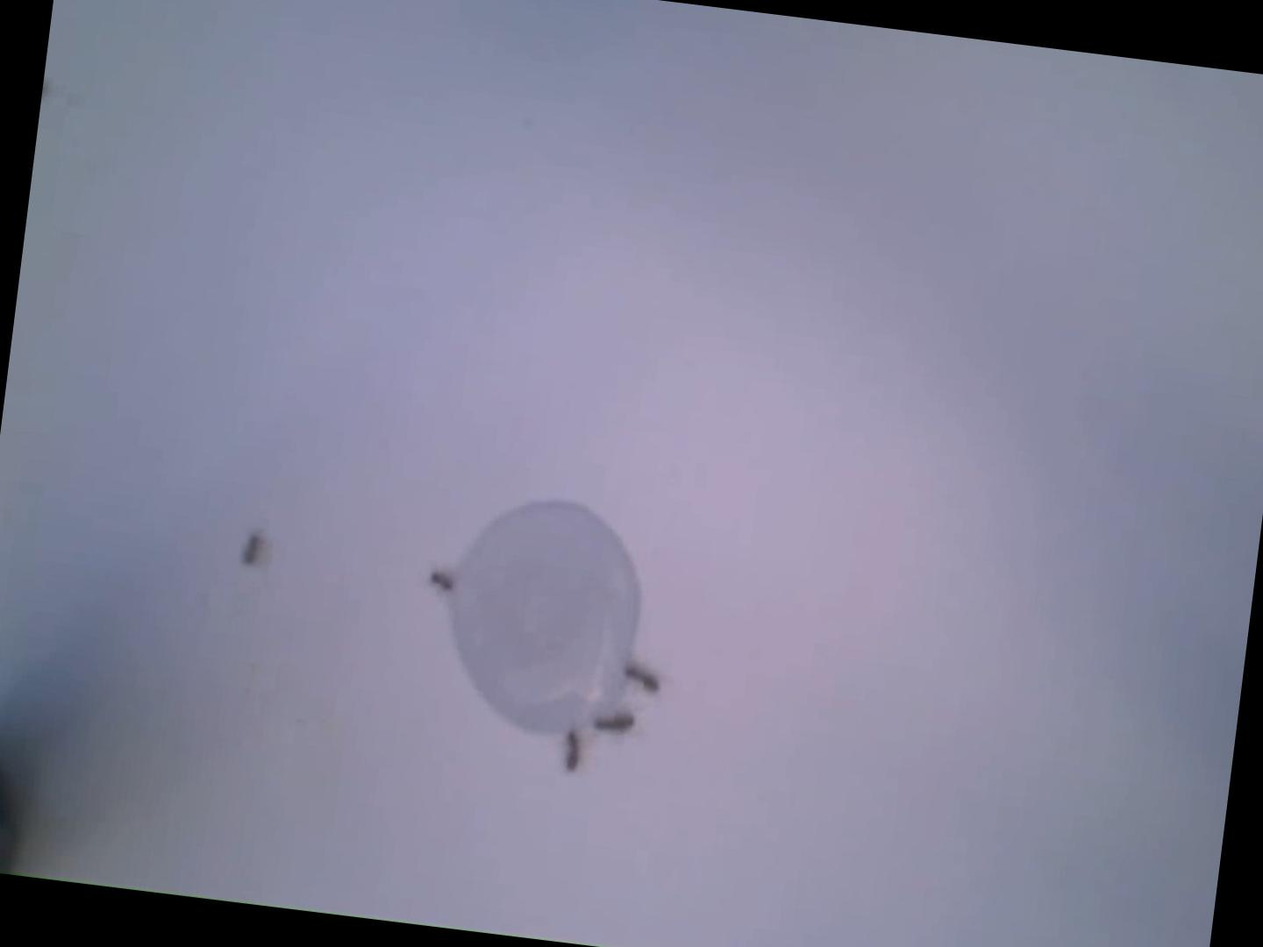Ant: (624, 662, 664, 693), (596, 707, 639, 735), (564, 730, 585, 772), (244, 530, 267, 566), (431, 570, 458, 591)
